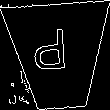P_S: (39, 30, 78, 82)
